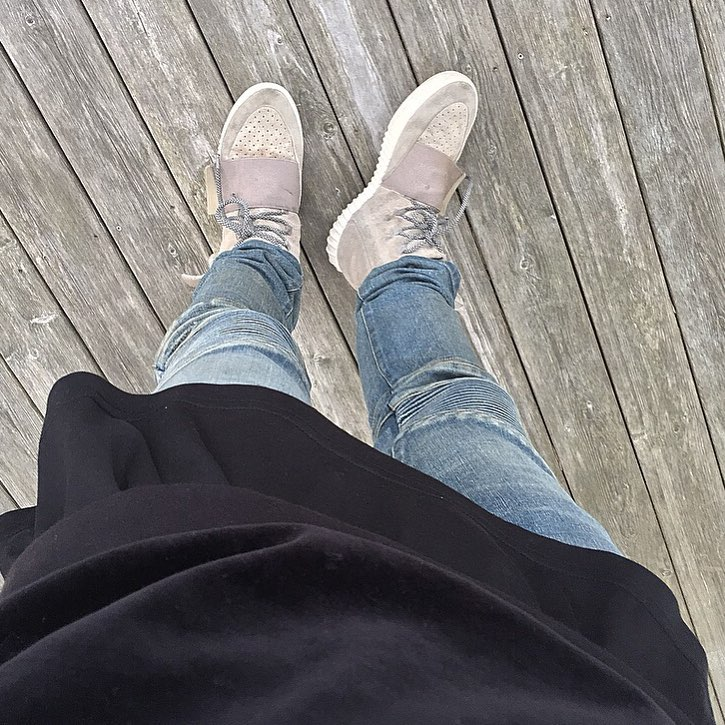sneaker: (319, 59, 497, 321), (190, 71, 316, 321)
